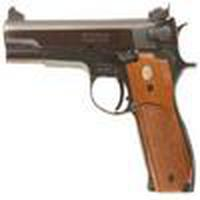gun: (3, 14, 193, 194)
